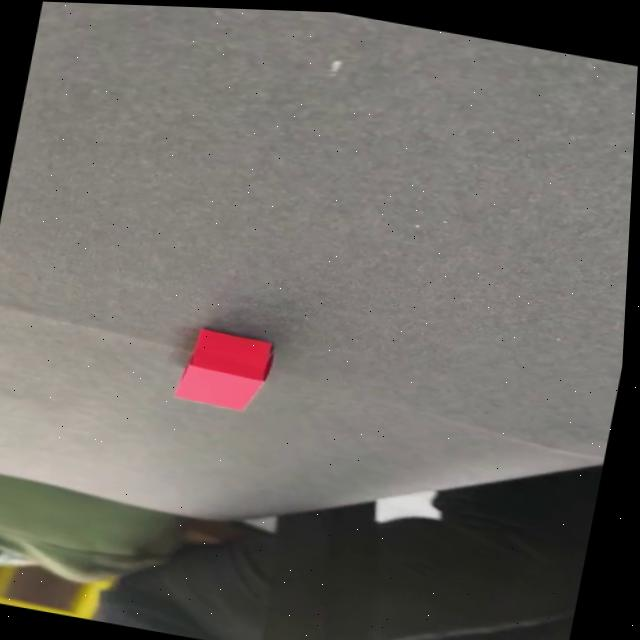red block: (172, 324, 278, 416)
